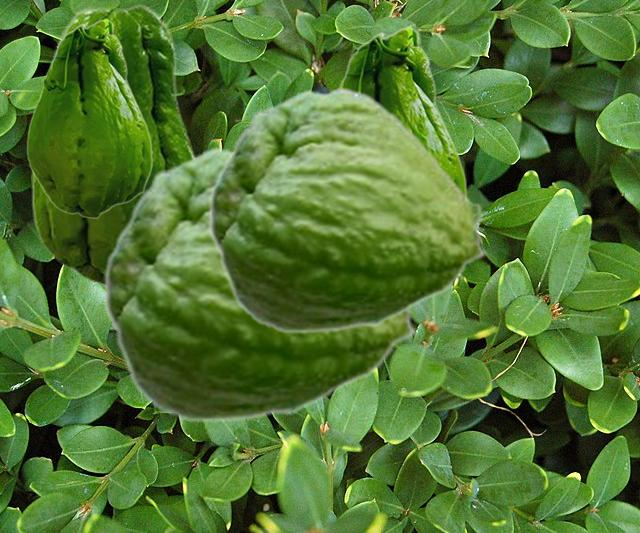sayote: (103, 143, 419, 423), (208, 86, 488, 334), (31, 3, 196, 288), (26, 18, 152, 218), (336, 26, 467, 194)
